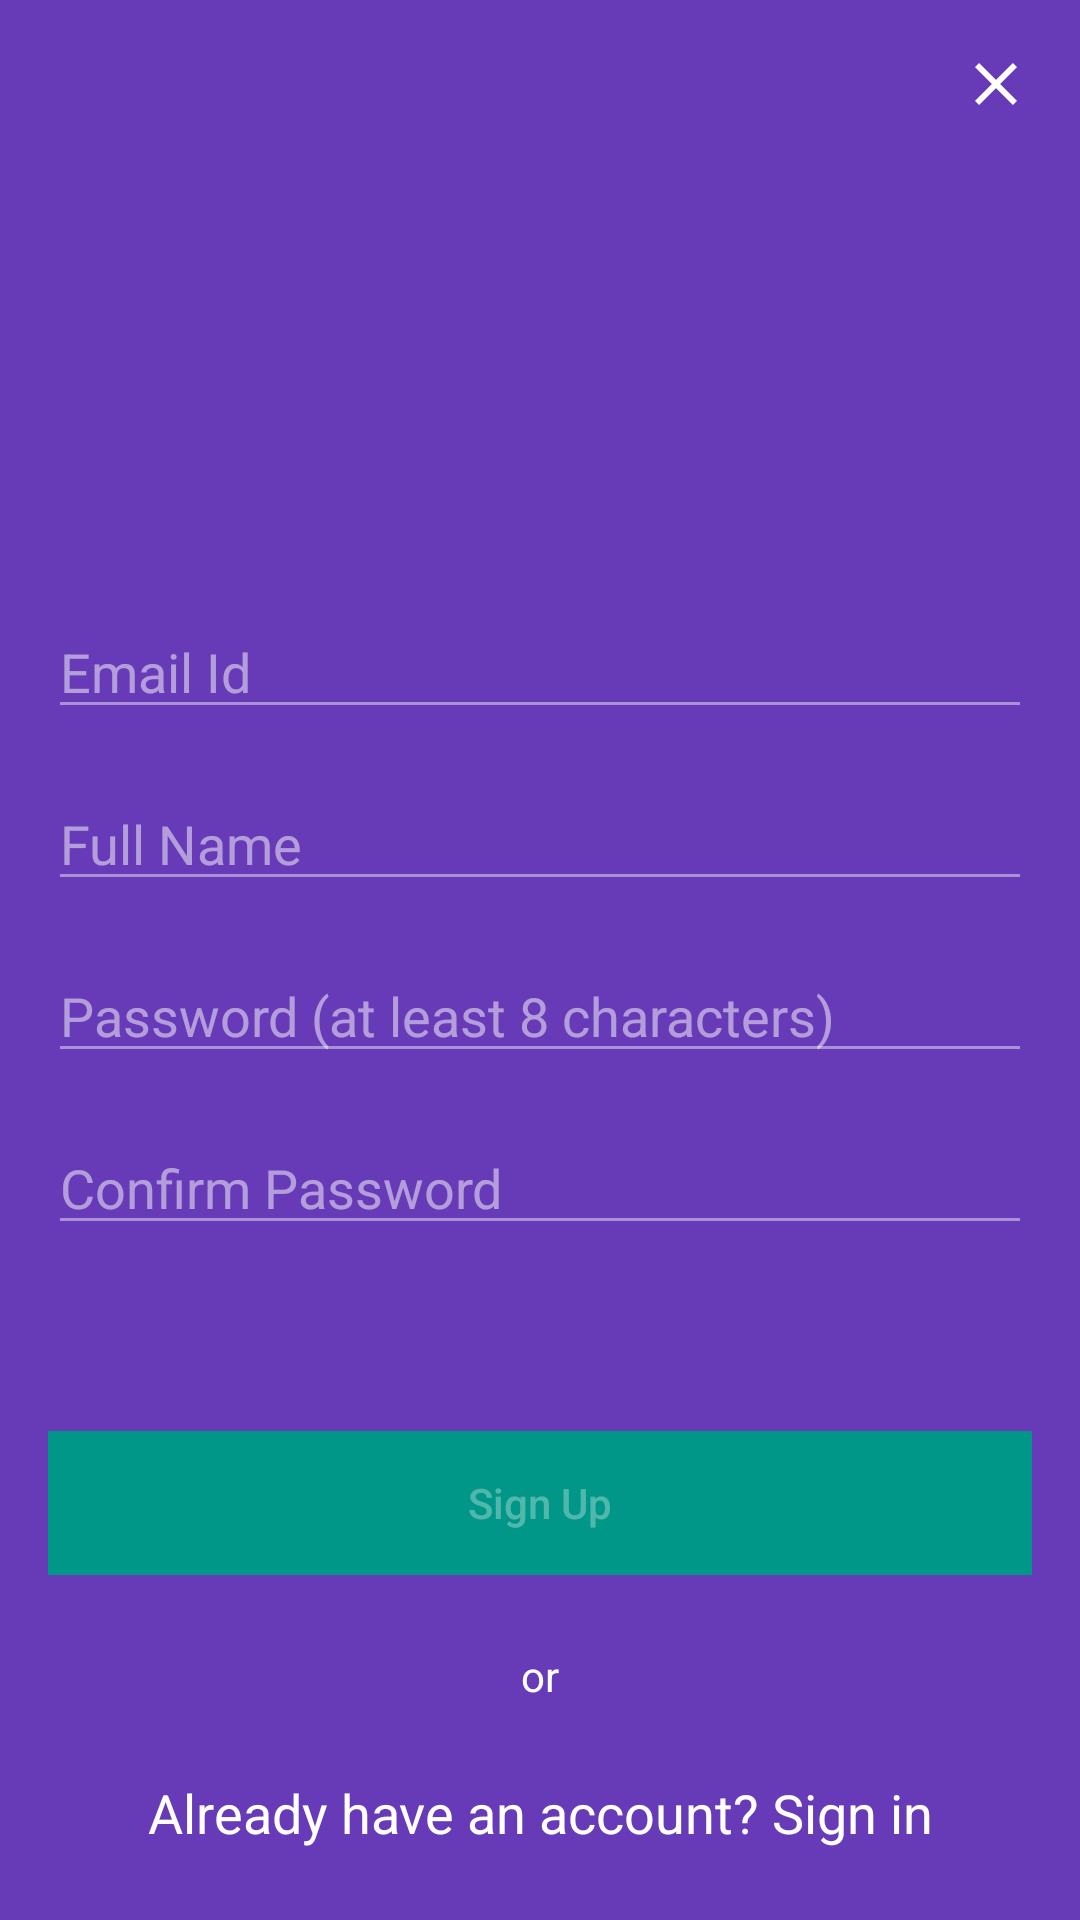

Icon bounding boxes for this 1080×1920 phone screenshot, format bbox=[x1, y1, x2, y2]:
close: bbox=[975, 63, 1017, 105]
